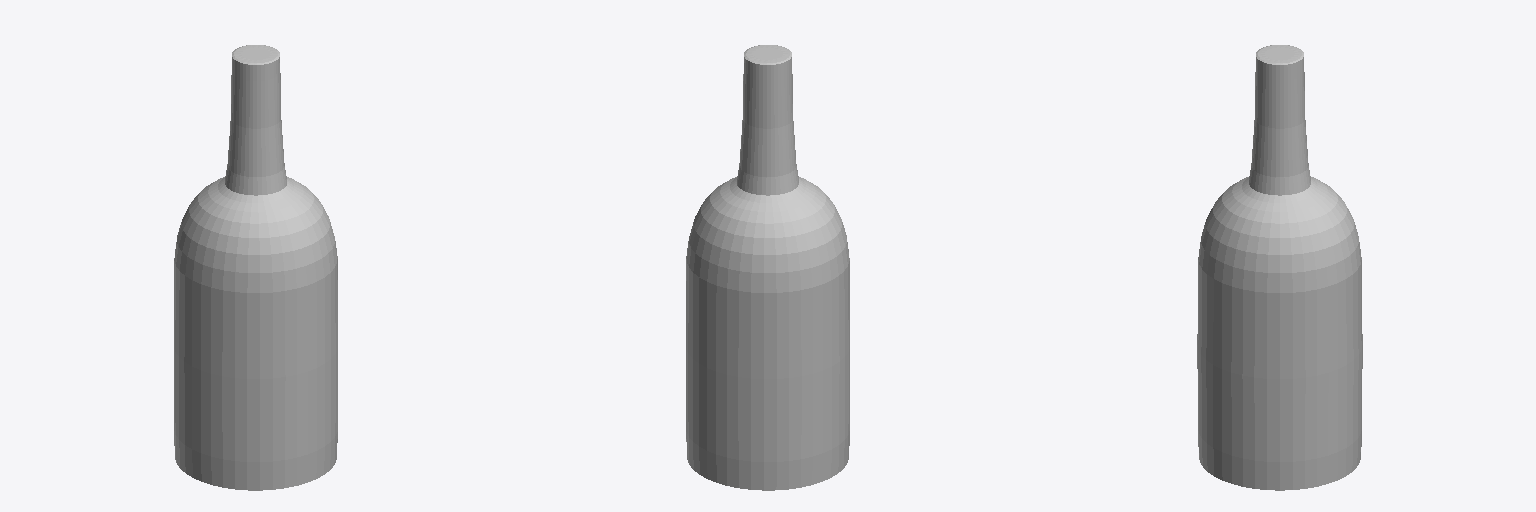
File: smoothedbottle.obj
3 renders of one model, left to right at view 1: azimuth 30°, elevation 25°; view 2: azimuth 150°, elevation 25°; view 3: azimuth 270°, elevation 25°, orthographic.
Bounding box in the file's own units: 1.98 × 5.33 × 1.98.